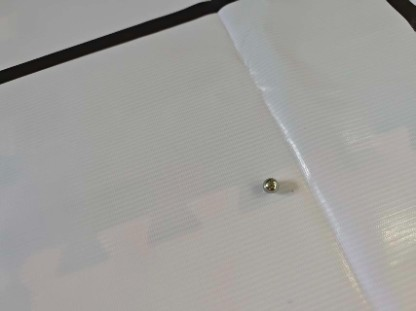ironball: (263, 178, 278, 192)
